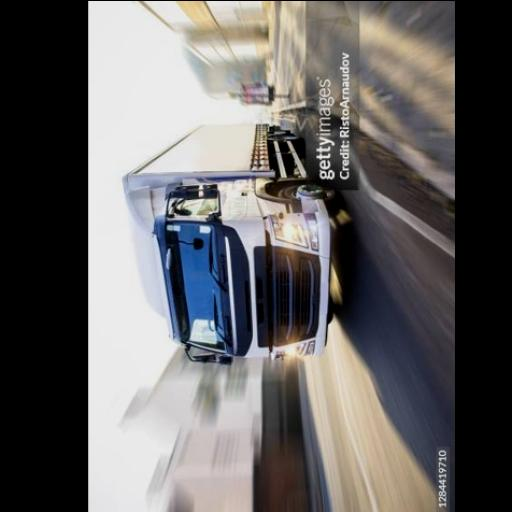truck: (122, 116, 344, 364)
